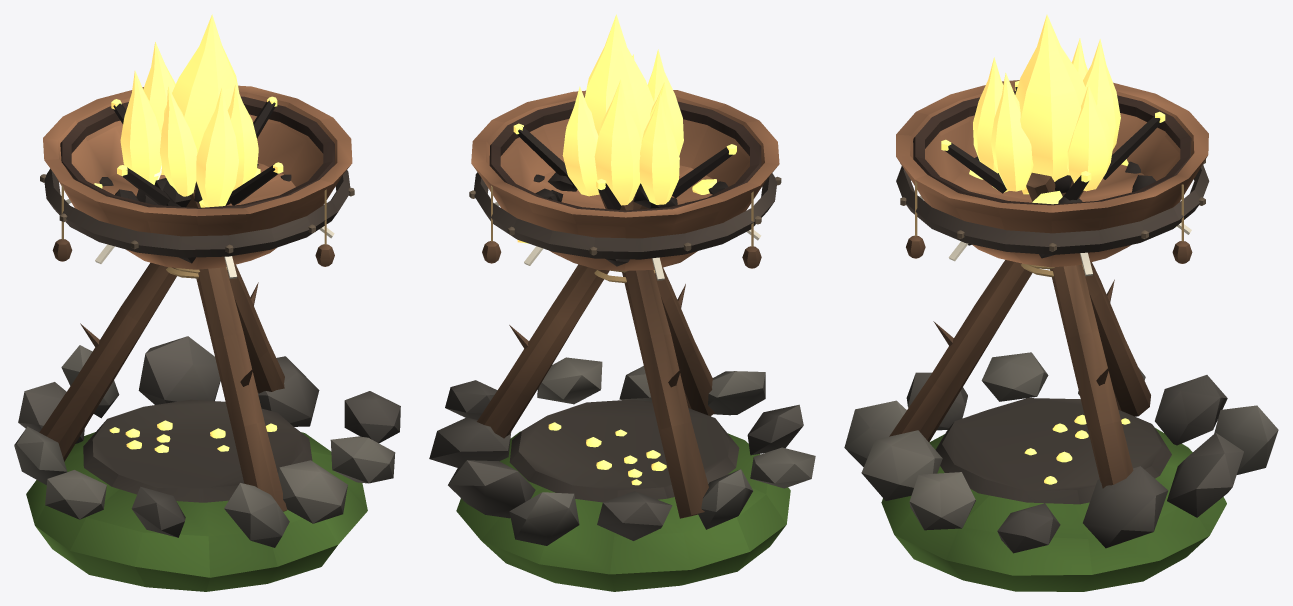
The model's file is ember_brazier.glb.
3 views of the same model, side by side, from view 1: azimuth 30°, elevation 25°; view 2: azimuth 150°, elevation 25°; view 3: azimuth 270°, elevation 25° (orthographic). The views are drawn at different scales.
Parts seen in each view (by area): view 1: Body.009, Flame, Coals; view 2: Body.009, Flame, Coals; view 3: Body.009, Flame, Coals.
Part boxes in pixels (x1,y1,x2,y2): Body.009: (14, 85, 400, 591); Flame: (120, 14, 258, 207); Coals: (94, 96, 291, 263); Body.009: (429, 90, 815, 591); Flame: (562, 14, 683, 205); Coals: (513, 123, 736, 266); Body.009: (844, 80, 1278, 591); Flame: (973, 14, 1120, 191); Coals: (941, 81, 1176, 258).
Size of the model in its own units: 1.7 by 2.44 by 1.75.
